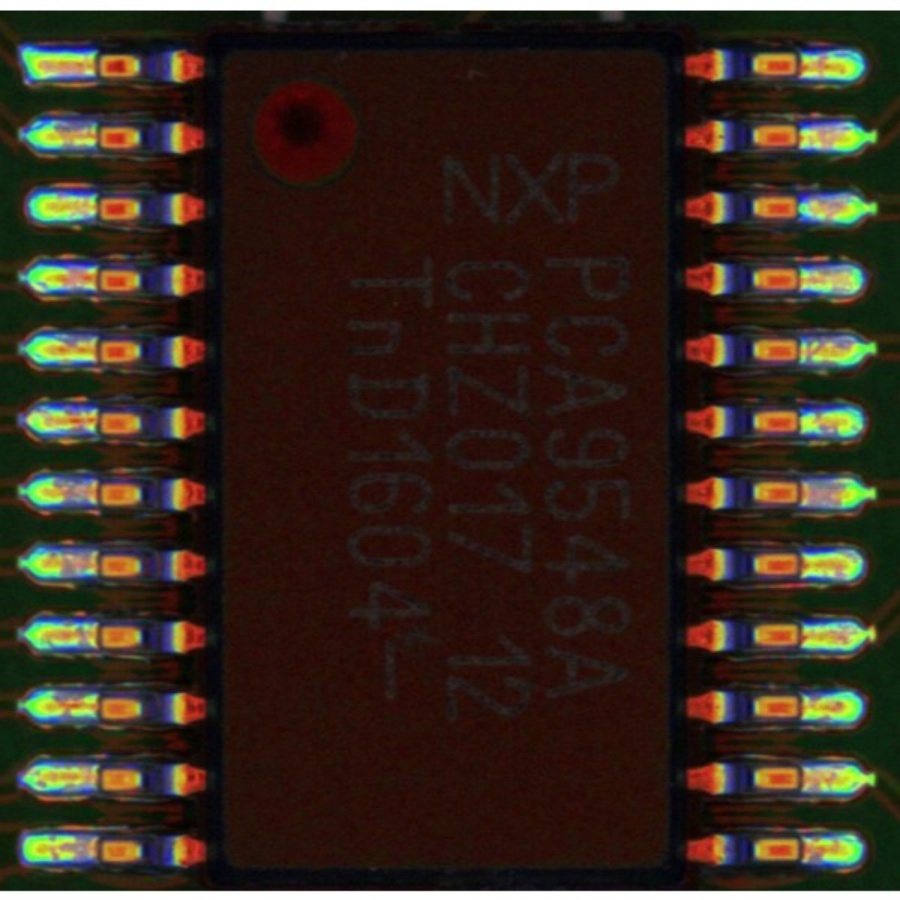Bad_podu: (72, 768, 124, 790), (67, 198, 123, 218), (73, 554, 121, 577), (71, 412, 118, 434), (69, 840, 122, 859), (74, 627, 124, 647), (68, 698, 123, 716), (71, 54, 118, 75), (777, 771, 831, 787), (73, 126, 116, 146), (74, 342, 121, 360), (780, 485, 828, 502), (74, 482, 121, 499), (75, 272, 123, 288), (781, 842, 823, 860), (779, 630, 831, 644), (776, 60, 829, 73), (781, 559, 822, 575), (787, 268, 811, 290)
